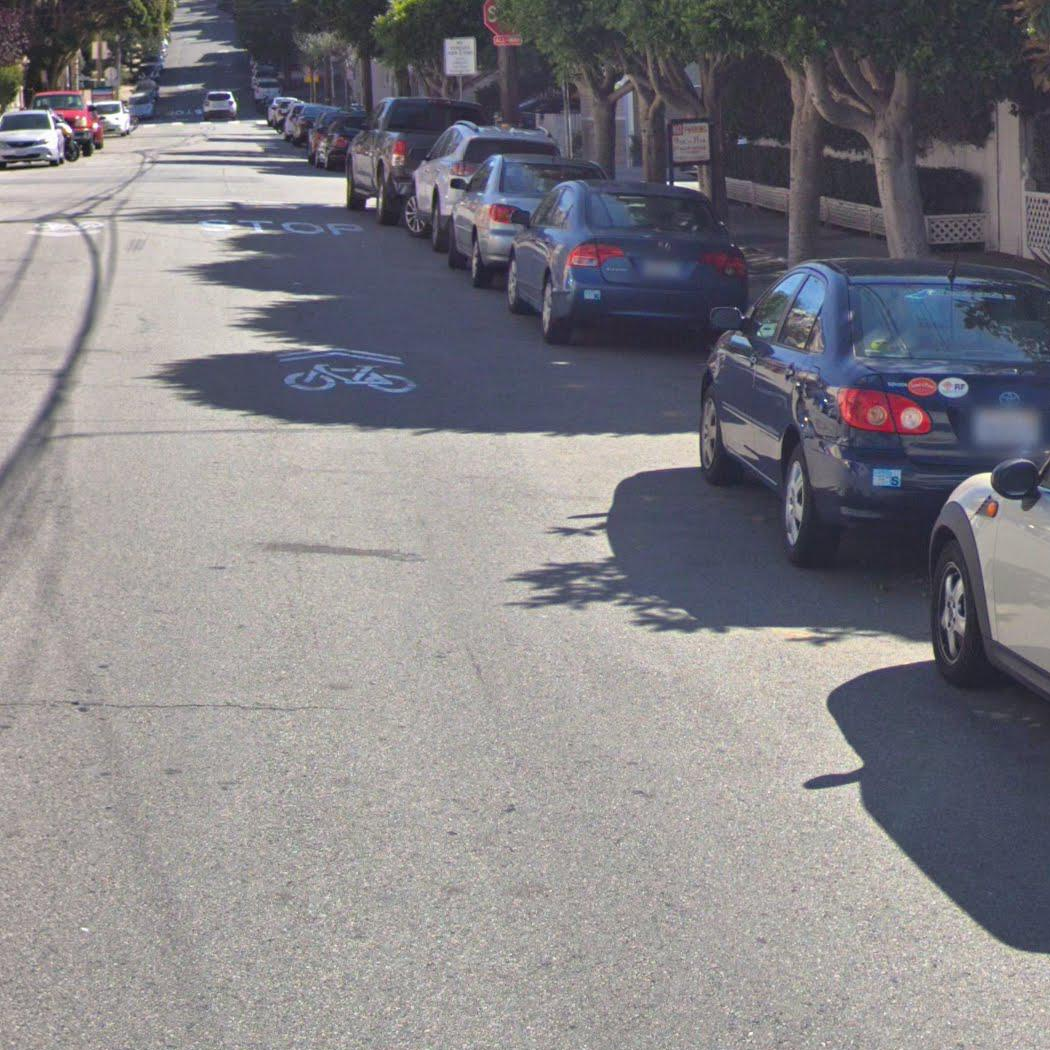No Parking: (667, 116, 713, 168)
